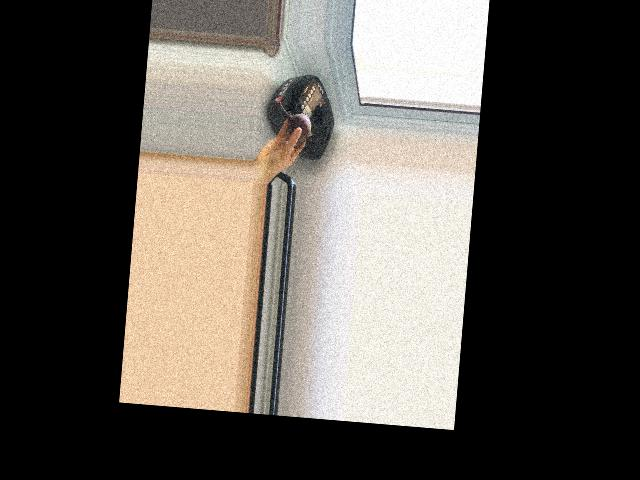beet: (275, 101, 315, 149)
